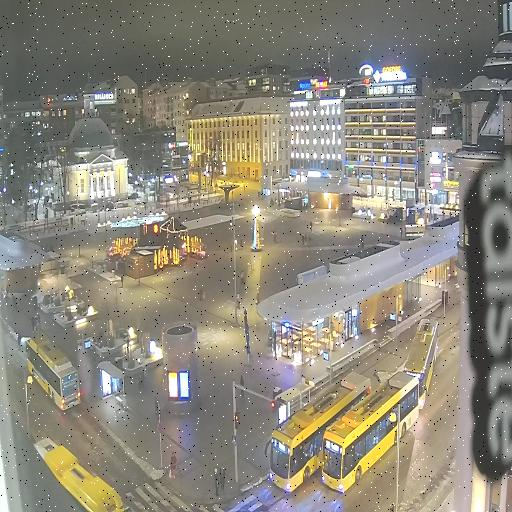Bus: (269, 372, 371, 491), (321, 372, 419, 492), (34, 438, 133, 512), (26, 333, 81, 410)
